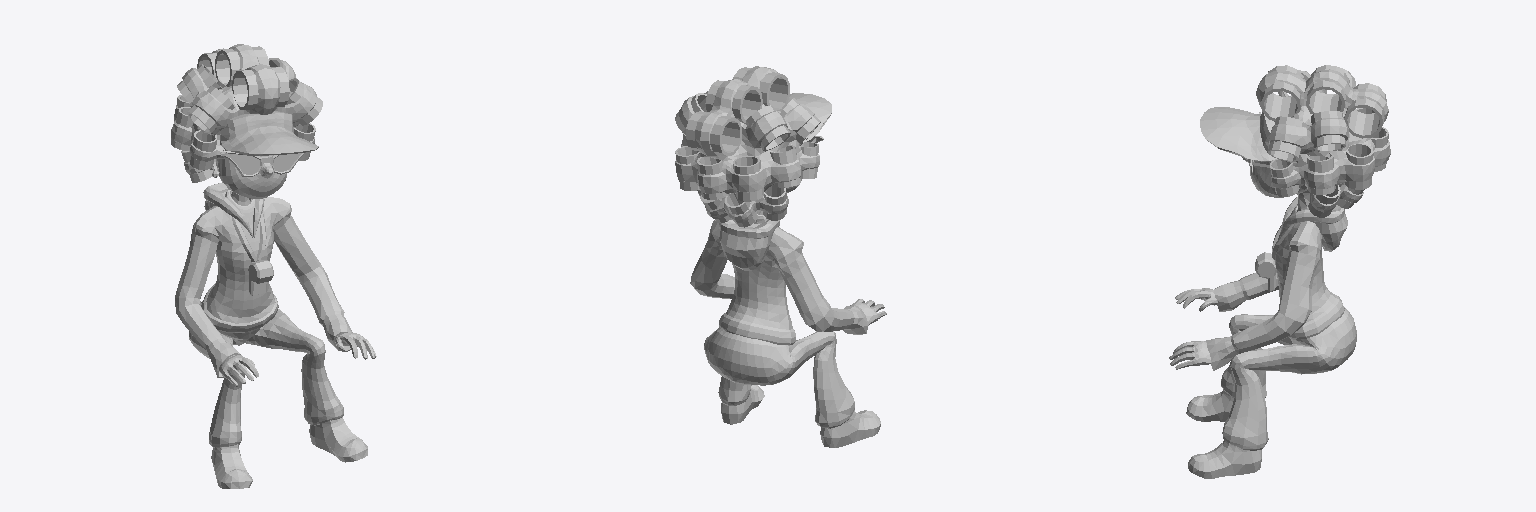
File: humano_mom_19.obj
3 views of the same model, side by side, from view 1: azimuth 30°, elevation 25°; view 2: azimuth 150°, elevation 25°; view 3: azimuth 270°, elevation 25° (orthographic).
Parts seen in each view (by area): view 1: Fitness_Grandma_BodyGeo; view 2: Fitness_Grandma_BodyGeo; view 3: Fitness_Grandma_BodyGeo.
Part boxes in pixels (x1,y1,x2,y2): Fitness_Grandma_BodyGeo: (171, 44, 376, 488); Fitness_Grandma_BodyGeo: (675, 66, 886, 447); Fitness_Grandma_BodyGeo: (1169, 65, 1390, 478).
Bounding box in the file's own units: 0.4641 × 1.15 × 0.6076.